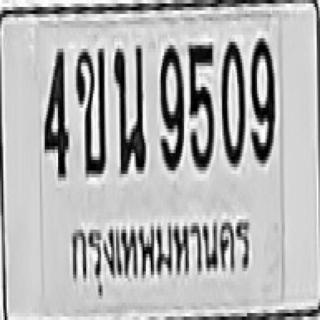A02: (73, 43, 110, 182)
A25: (113, 42, 143, 170)
N00: (220, 38, 244, 163)
N04: (40, 46, 71, 188)
N05: (187, 42, 212, 167)
N09: (250, 35, 274, 160), (159, 42, 182, 167)
P04: (61, 205, 253, 303)
